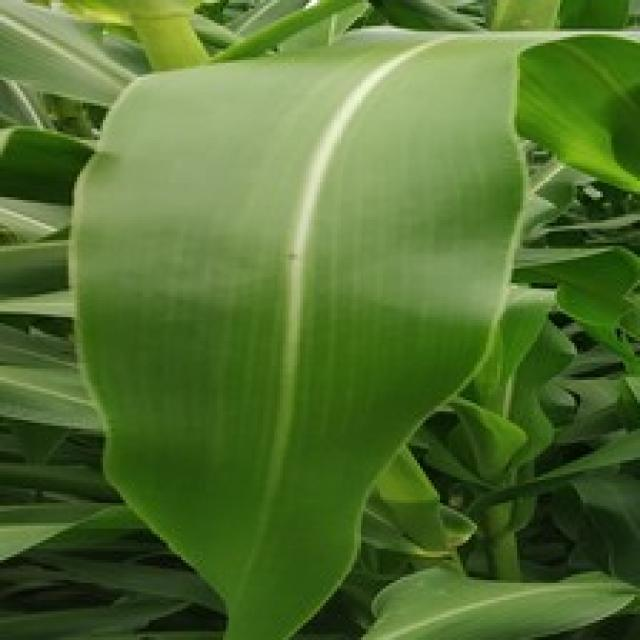Corn: (0, 0, 637, 637), (512, 29, 637, 200)
